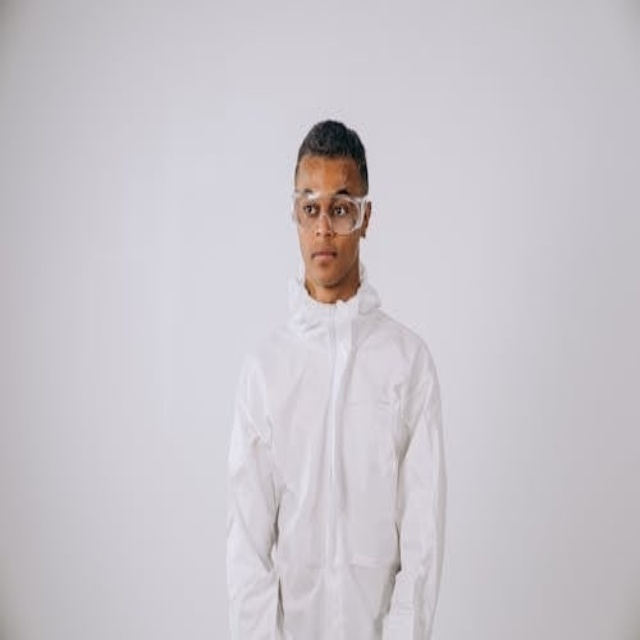Gafas: (292, 190, 369, 233)
Sin_mascara: (306, 242, 342, 279)
